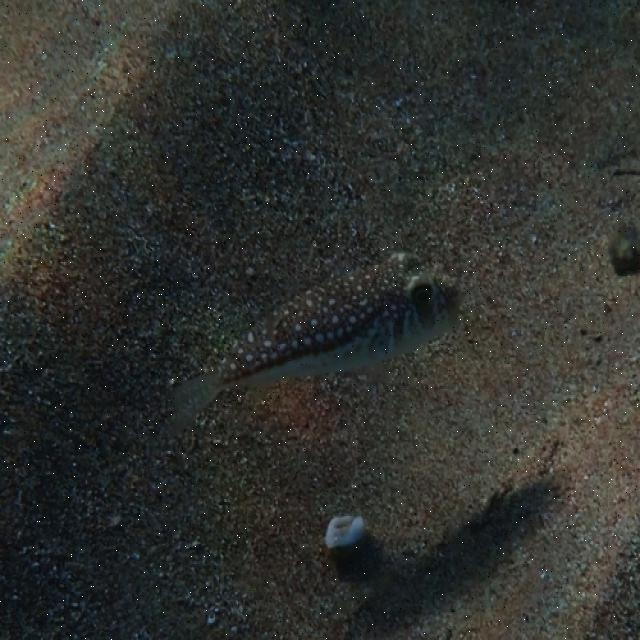Balik: (173, 253, 458, 429)
